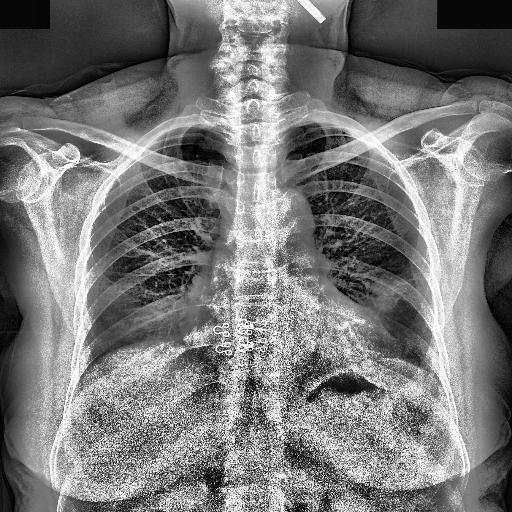0- Aortic enlargement: (260, 186, 314, 256), (267, 190, 314, 242), (262, 188, 312, 236)
13- Pulmonary fibrosis: (370, 262, 418, 310)
3- Cardiomegaly: (182, 296, 396, 365), (186, 308, 402, 357)
6- Infiltration: (370, 262, 418, 310)
